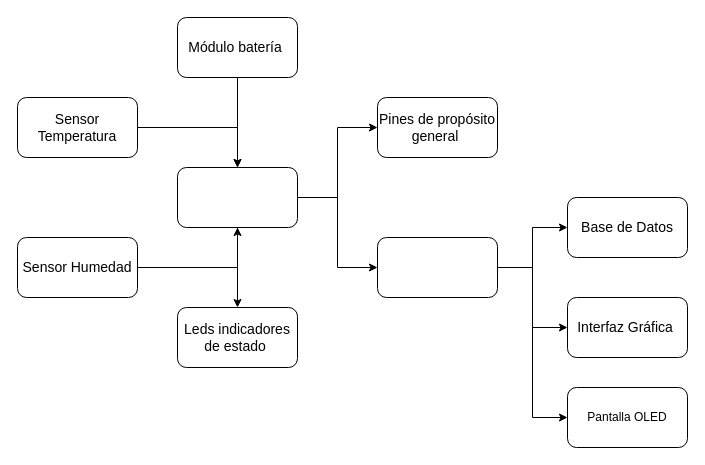
This 705x465 diagram has some shape labels left out. The box of each missing label's shape, as (x1, y1, x2, y2) in pixels:
Microcontrolador (ESP32): (176, 166, 298, 228)
Servidor (Raspeberry Pi): (376, 236, 498, 298)
